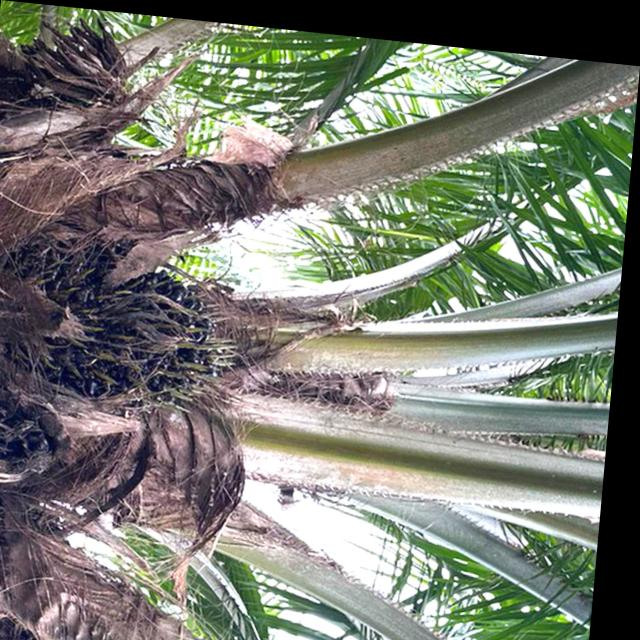unripe: (0, 210, 259, 501)
